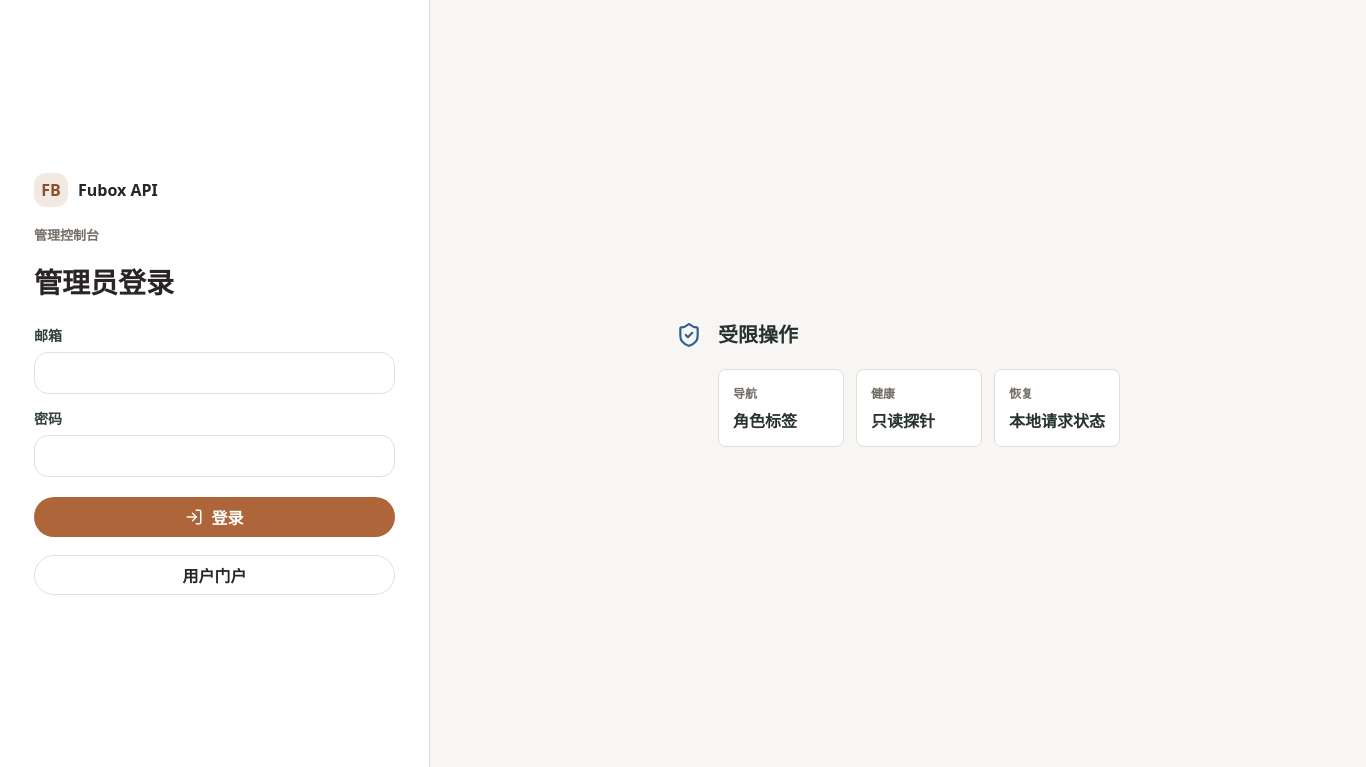
App › keeps ops users on operational provider sections without billing
Type "operator@example.com" into the field labelled "邮箱" at point(214, 373), box [34,352,395,394]
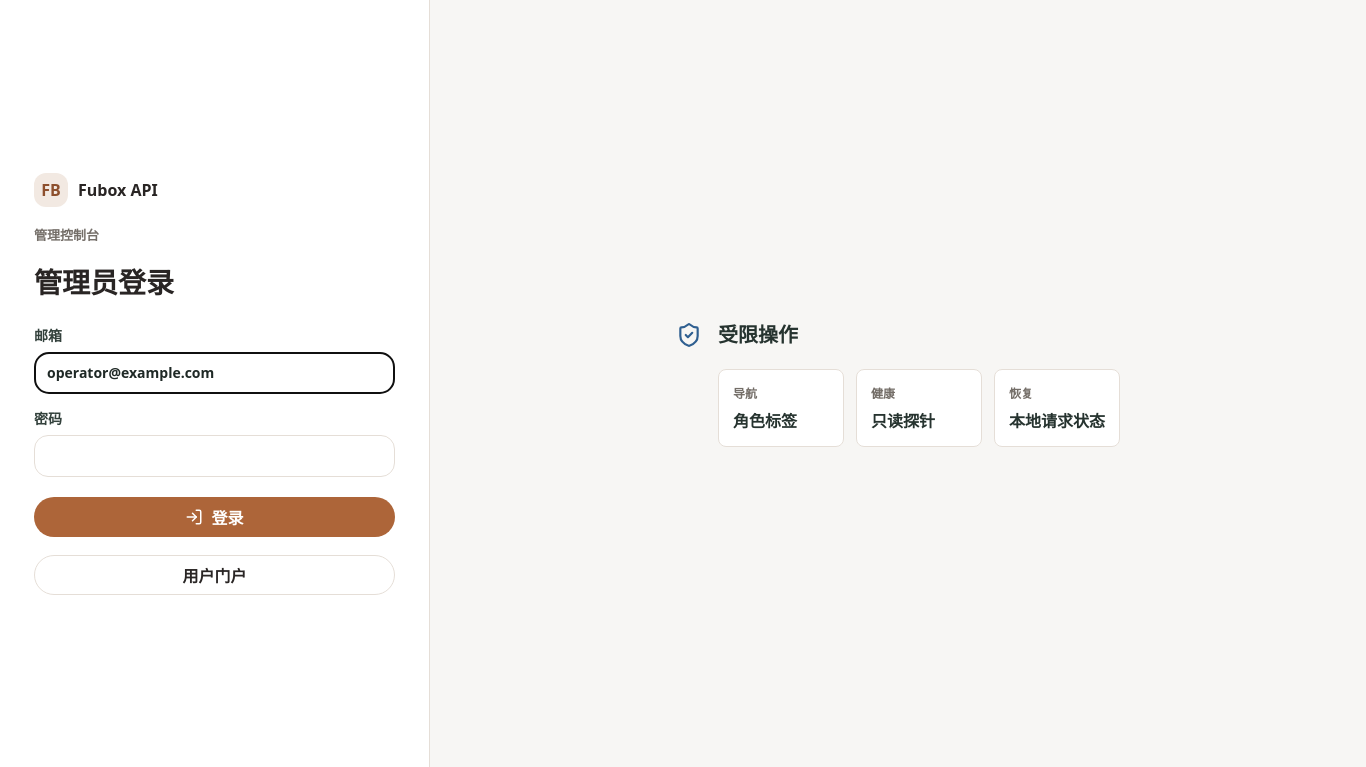
Type "local-password" into the password field labelled "密码" at point(214, 456), box [34,435,395,477]
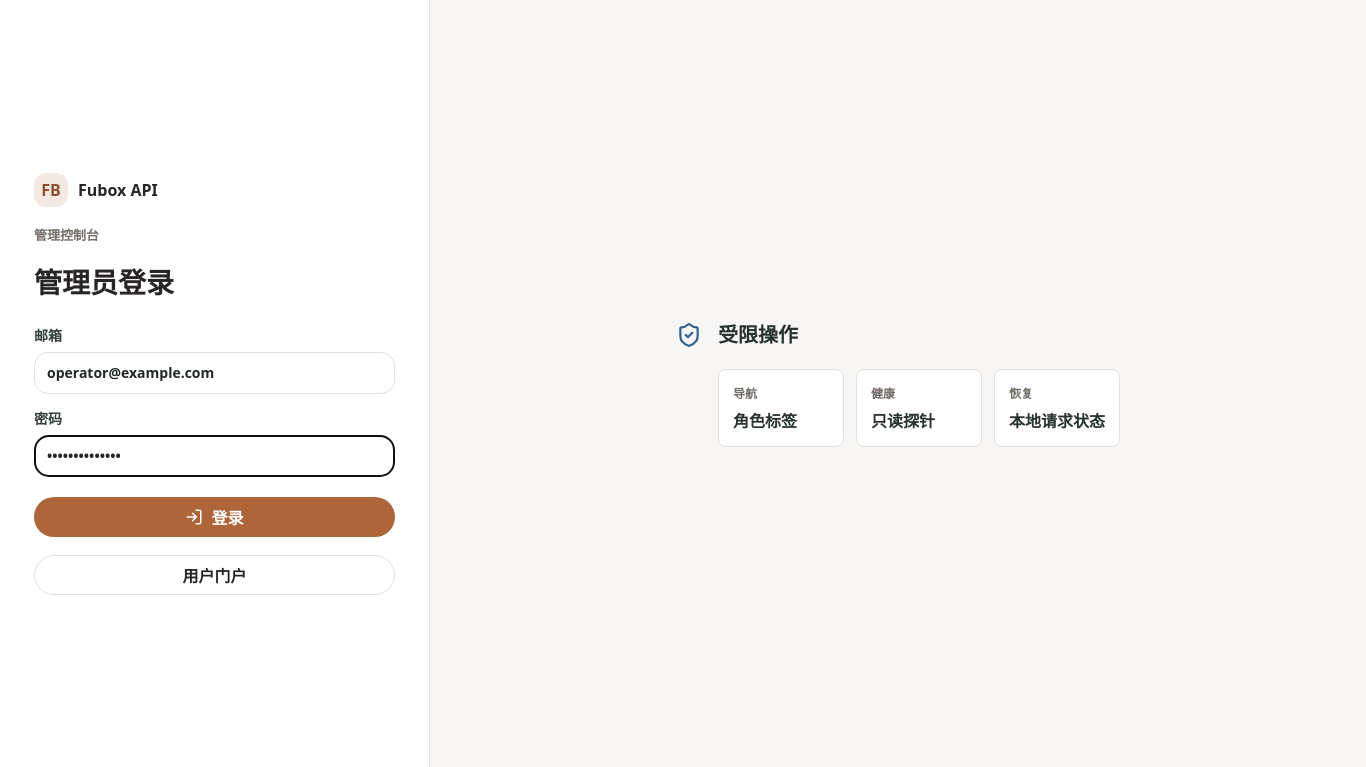
Click the button "登录" at point(214, 517), box [34,497,395,537]
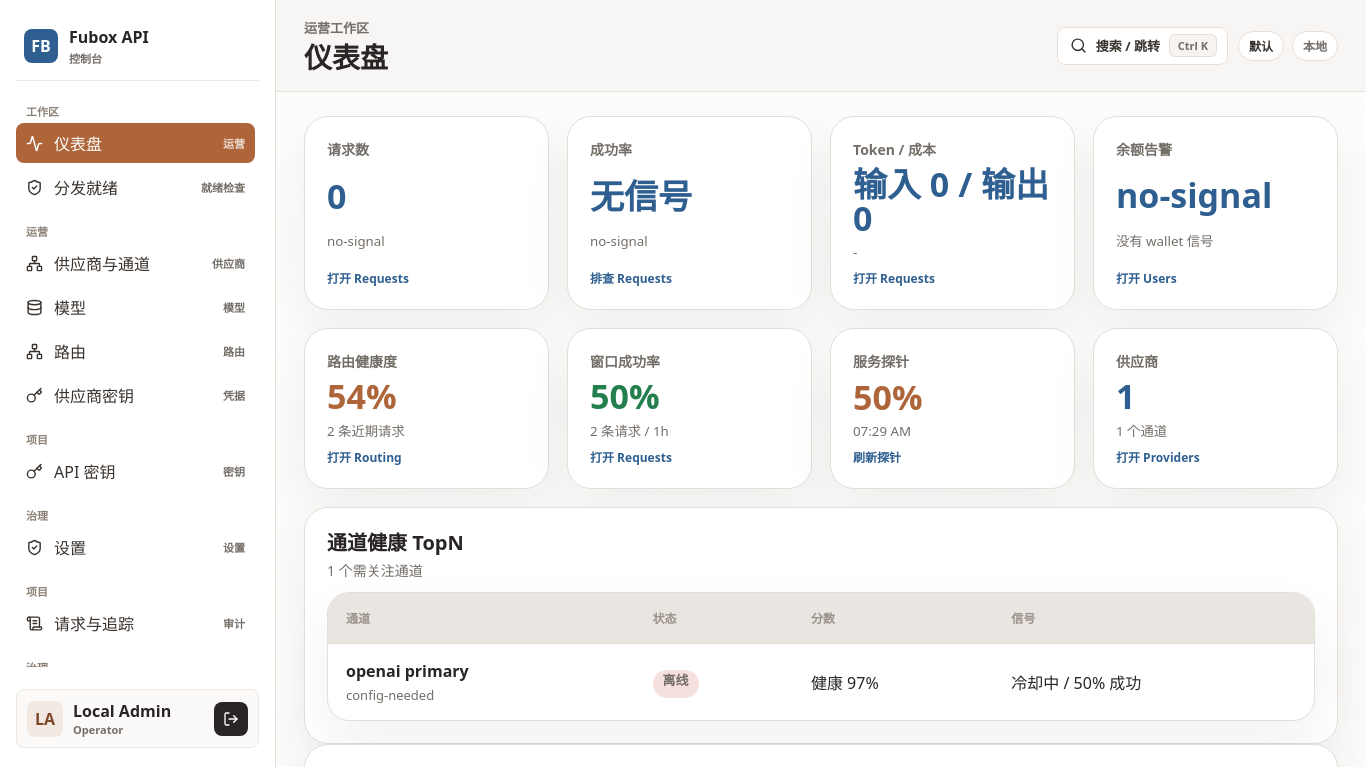
Check: the button "仪表盘 运营" is shown, box [16,123,255,163]
Check: the button "请求与追踪 审计" is shown, box [16,603,255,643]
Check: the button "供应商与通道 供应商" is shown, box [16,243,255,283]
